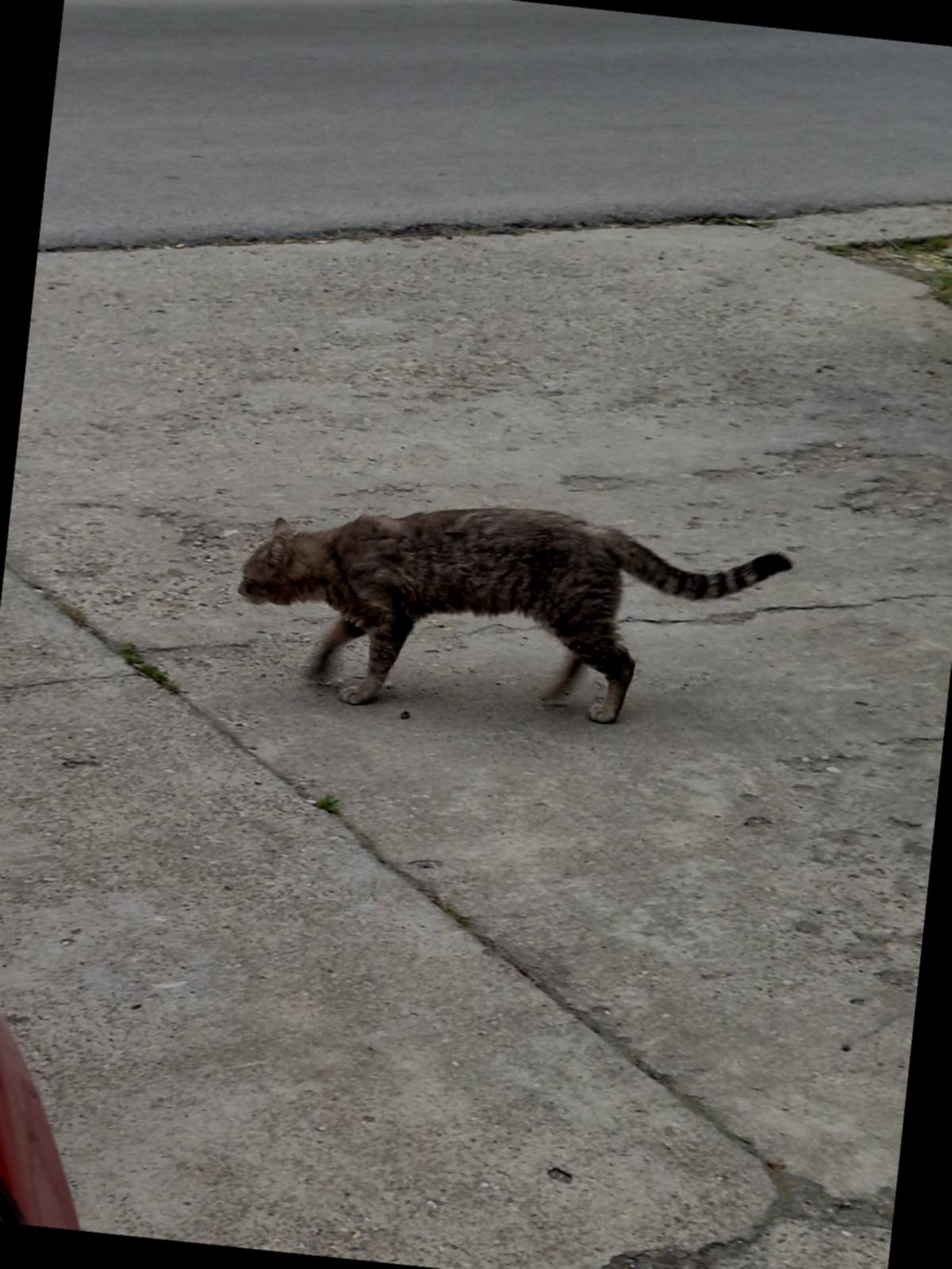macka: (223, 479, 795, 748)
